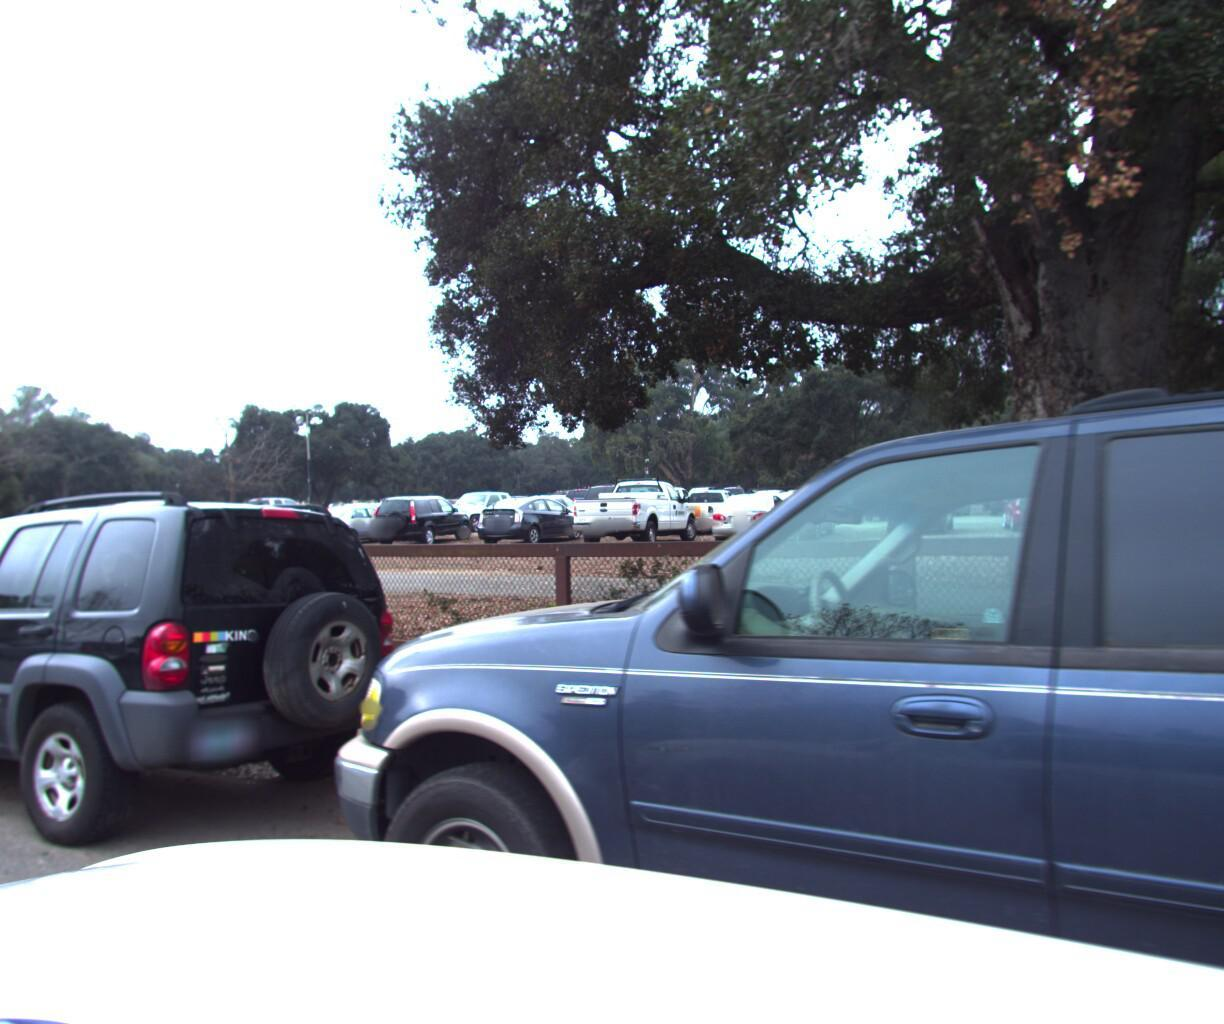car: (272, 0, 1224, 1024), (0, 480, 447, 903)
